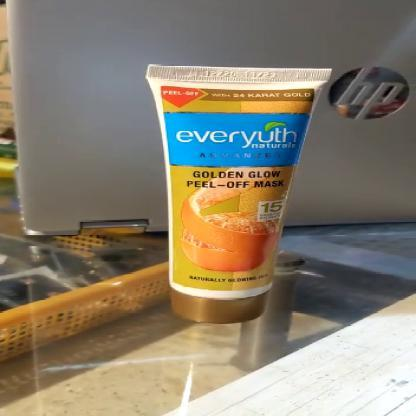EY ADVANCED GOLDEN GLOW PEEL OFF M- 90G: (144, 66, 326, 322)
